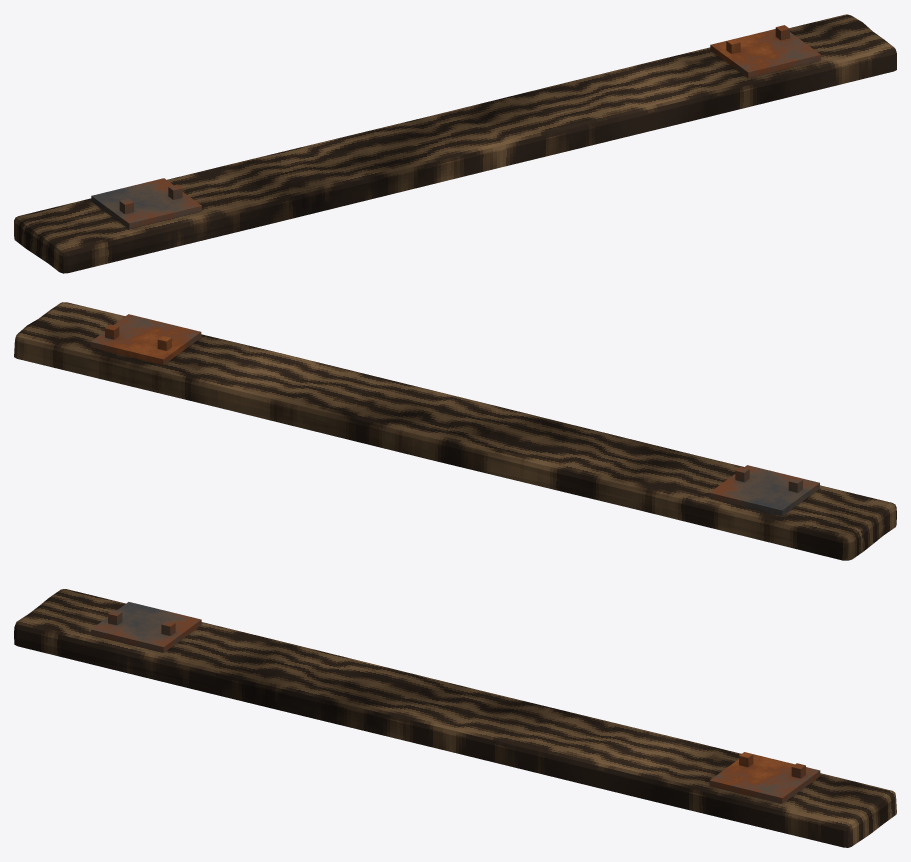
Rendered from mine_sleeper.glb.
3 renders of one model, top to bottom at view 1: azimuth 30°, elevation 25°; view 2: azimuth 150°, elevation 25°; view 3: azimuth 330°, elevation 25°, orthographic.
Parts seen in each view (by area): view 1: mine_sleeper; view 2: mine_sleeper; view 3: mine_sleeper.
Boxes of the visible parts, box(x1,y1,x2,y2) form: mine_sleeper: box(14, 14, 896, 273); mine_sleeper: box(14, 302, 896, 560); mine_sleeper: box(14, 589, 896, 847).
Size of the model in its own units: 2.3 by 0.1 by 0.2434.
Materials: 2 (2 with a texture image).
